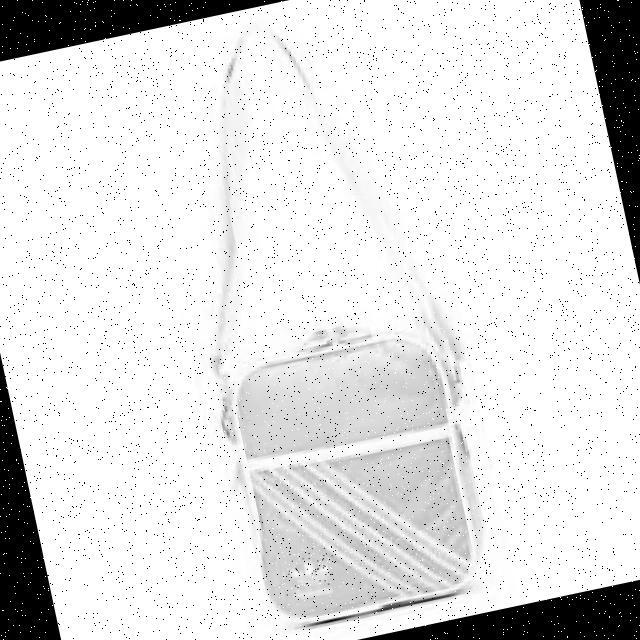Adidas: (278, 544, 340, 597)
